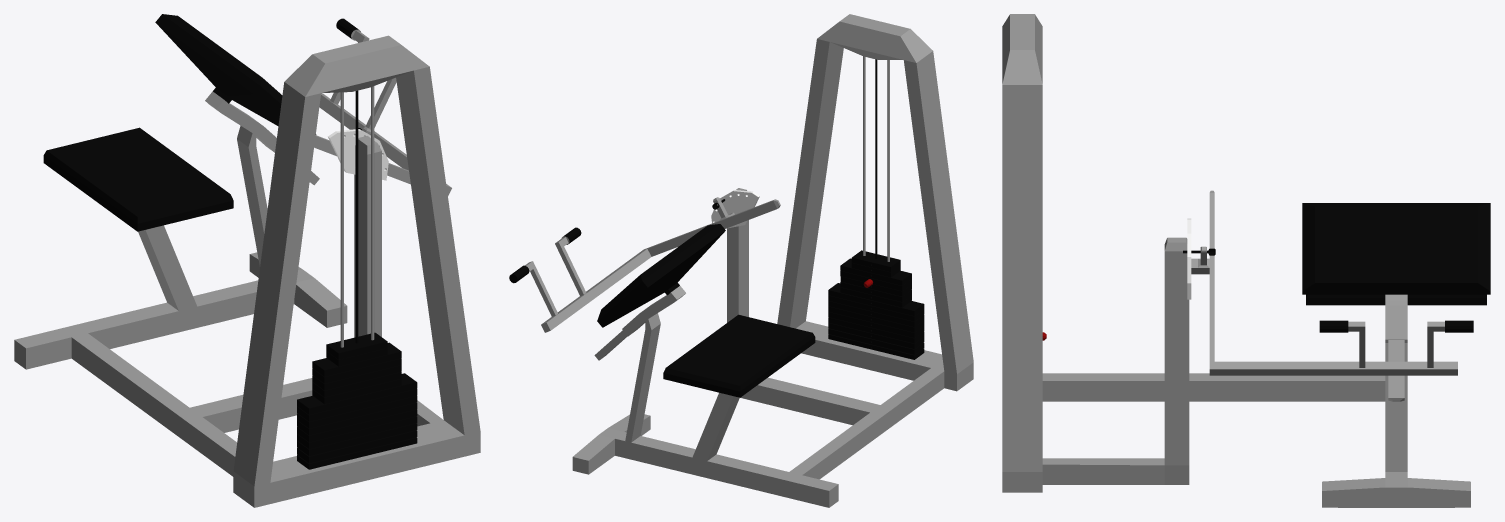
Rendered from BicepsCurlMachine.fbx.
3 renders of one model, left to right at view 1: azimuth 30°, elevation 25°; view 2: azimuth 150°, elevation 25°; view 3: azimuth 270°, elevation 25°, orthographic. The views are drawn at different scales.
Visible parts, largest first — view 1: BicepsCurlMachine; view 2: BicepsCurlMachine; view 3: BicepsCurlMachine.
Part boxes in pixels (x1,y1,x2,y2): BicepsCurlMachine: (14, 14, 480, 507); BicepsCurlMachine: (509, 14, 973, 507); BicepsCurlMachine: (1002, 14, 1490, 507).
Size of the model in its own units: 144 by 159 by 172.
